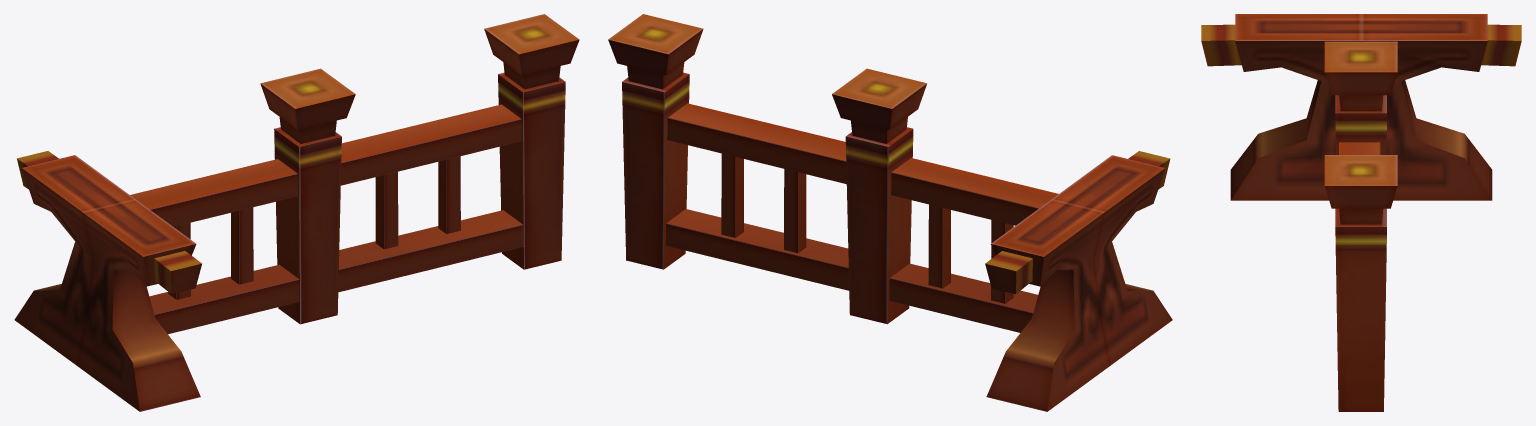
File: FB_Chengxiangfu_ZhaLan.FBX
3 views of the same model, side by side, from view 1: azimuth 30°, elevation 25°; view 2: azimuth 150°, elevation 25°; view 3: azimuth 270°, elevation 25° (orthographic). The views are drawn at different scales.
Parts seen in each view (by area): view 1: Object09, Object08; view 2: Object09, Object08; view 3: Object08, Object09.
Boxes of the visible parts, x1=… form: Object09: x1=130, y1=14, x2=579, y2=334; Object08: x1=14, y1=151, x2=201, y2=411; Object09: x1=608, y1=14, x2=1058, y2=332; Object08: x1=985, y1=151, x2=1172, y2=411; Object08: x1=1201, y1=14, x2=1521, y2=200; Object09: x1=1324, y1=41, x2=1397, y2=411.
Size of the model in its own units: 3.66 by 1.61 by 2.02.
